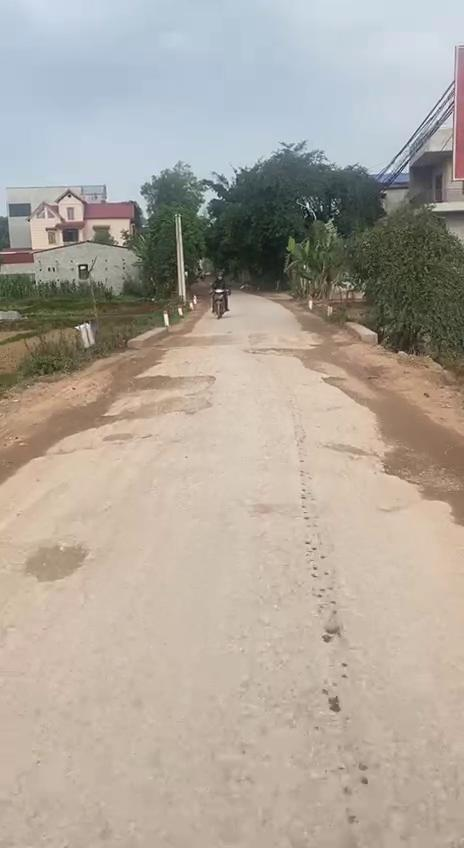pothole: (23, 534, 98, 587)
